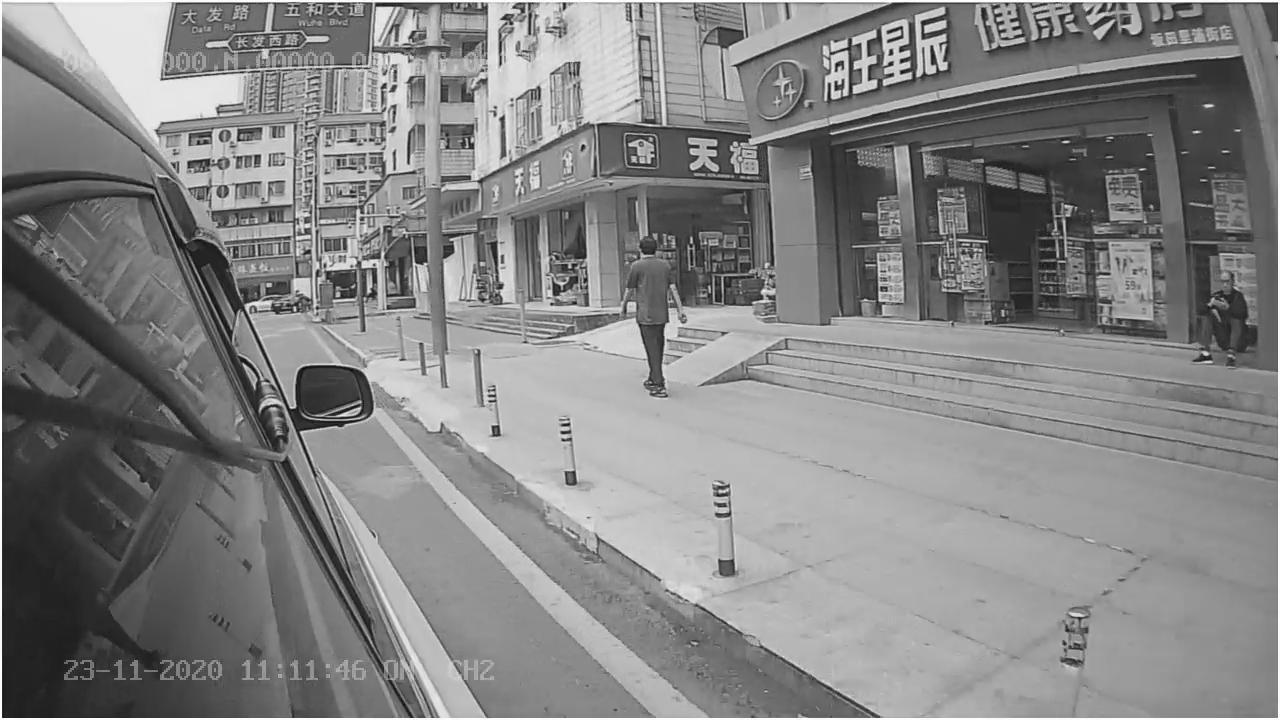person: (613, 229, 690, 404)
